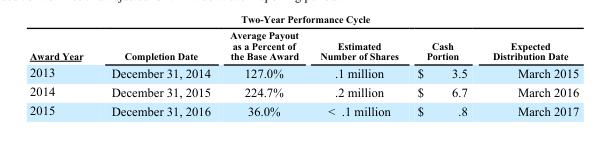table: (29, 29, 578, 117)
table column: (96, 29, 219, 117), (308, 29, 407, 117), (479, 29, 578, 117), (219, 29, 308, 117), (407, 29, 479, 117), (29, 29, 96, 117)
table column header: (29, 29, 578, 62)
table row: (29, 29, 578, 62), (29, 62, 578, 81), (29, 81, 578, 100), (29, 100, 578, 117)
